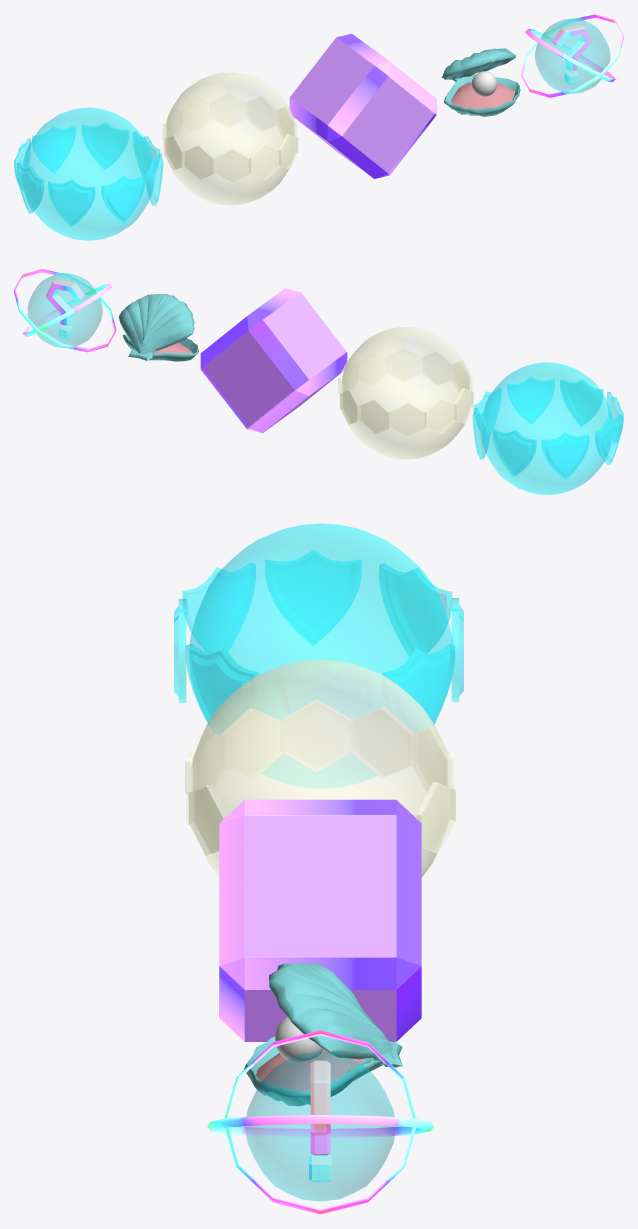
The model's file is octoforceWeaponsAndPickups_edit_for_FBX.fbx.
3 views of the same model, one above another, from view 1: azimuth 30°, elevation 25°; view 2: azimuth 150°, elevation 25°; view 3: azimuth 270°, elevation 25° (orthographic). The views are drawn at different scales.
Parts seen in each view (by area): view 1: Shield01, Shield02, Shield03, RandomItem, SeashellPearl; view 2: Shield01, Shield02, Shield03, RandomItem, SeashellPearl; view 3: Shield01, Shield03, Shield02, RandomItem, SeashellPearl.
Boxes of the visible parts, x1,y1,x2,y2 form: Shield01: (14, 107, 163, 240); Shield02: (162, 72, 298, 205); Shield03: (289, 33, 436, 178); RandomItem: (521, 14, 623, 97); SeashellPearl: (442, 48, 520, 116); Shield01: (472, 362, 623, 494); Shield02: (338, 327, 473, 459); Shield03: (200, 288, 347, 433); RandomItem: (14, 269, 116, 352); SeashellPearl: (118, 293, 198, 361); Shield01: (174, 523, 463, 787); Shield03: (219, 799, 421, 1041); Shield02: (185, 659, 455, 877); RandomItem: (207, 1030, 433, 1214); SeashellPearl: (243, 962, 402, 1106).
Size of the model in its own units: 18335 by 3606 by 3914.
